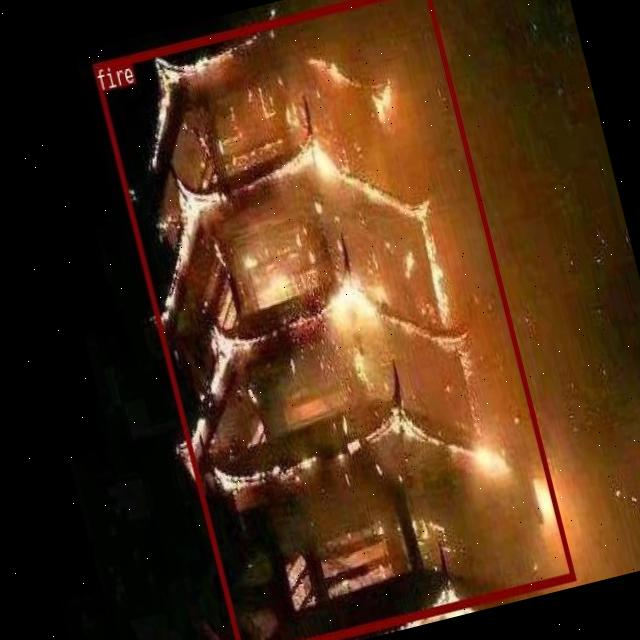fire: (91, 0, 575, 640)
